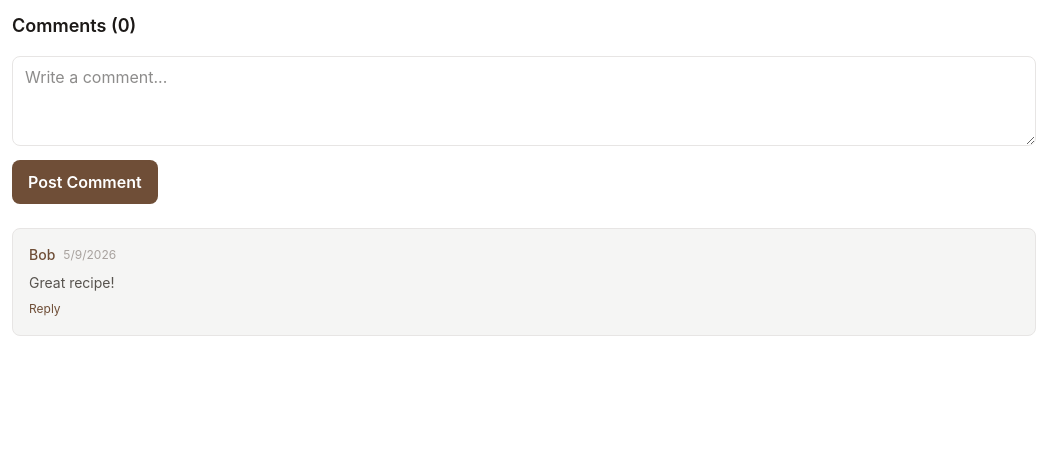
CommentSection — i18n › renders reply form labels using t() — English
Click the button "Reply": (45, 309) [29,301,61,317]
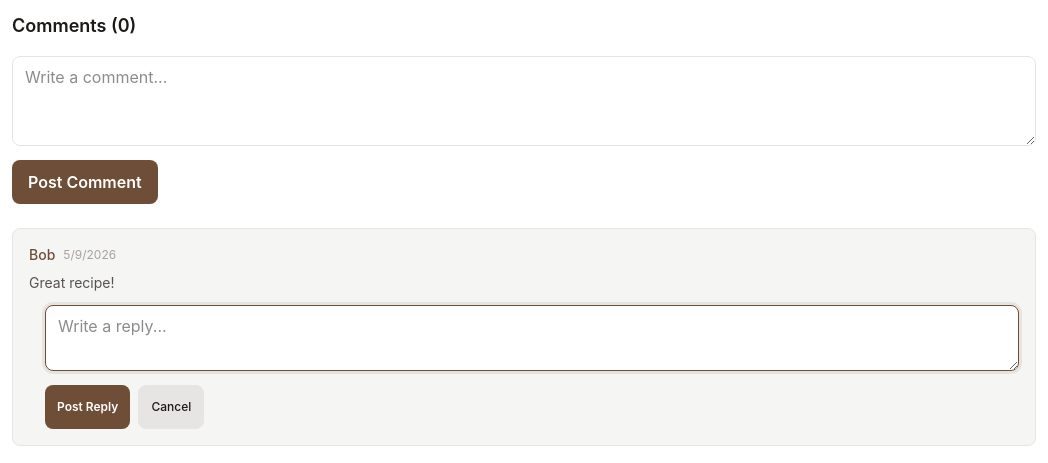
Check: the text box with placeholder "Write a reply..." is shown, box [45,305,1019,371]
Check: the button "Post Reply" is shown, box [45,385,130,429]
Check: the button "Cancel" is shown, box [138,385,204,429]
